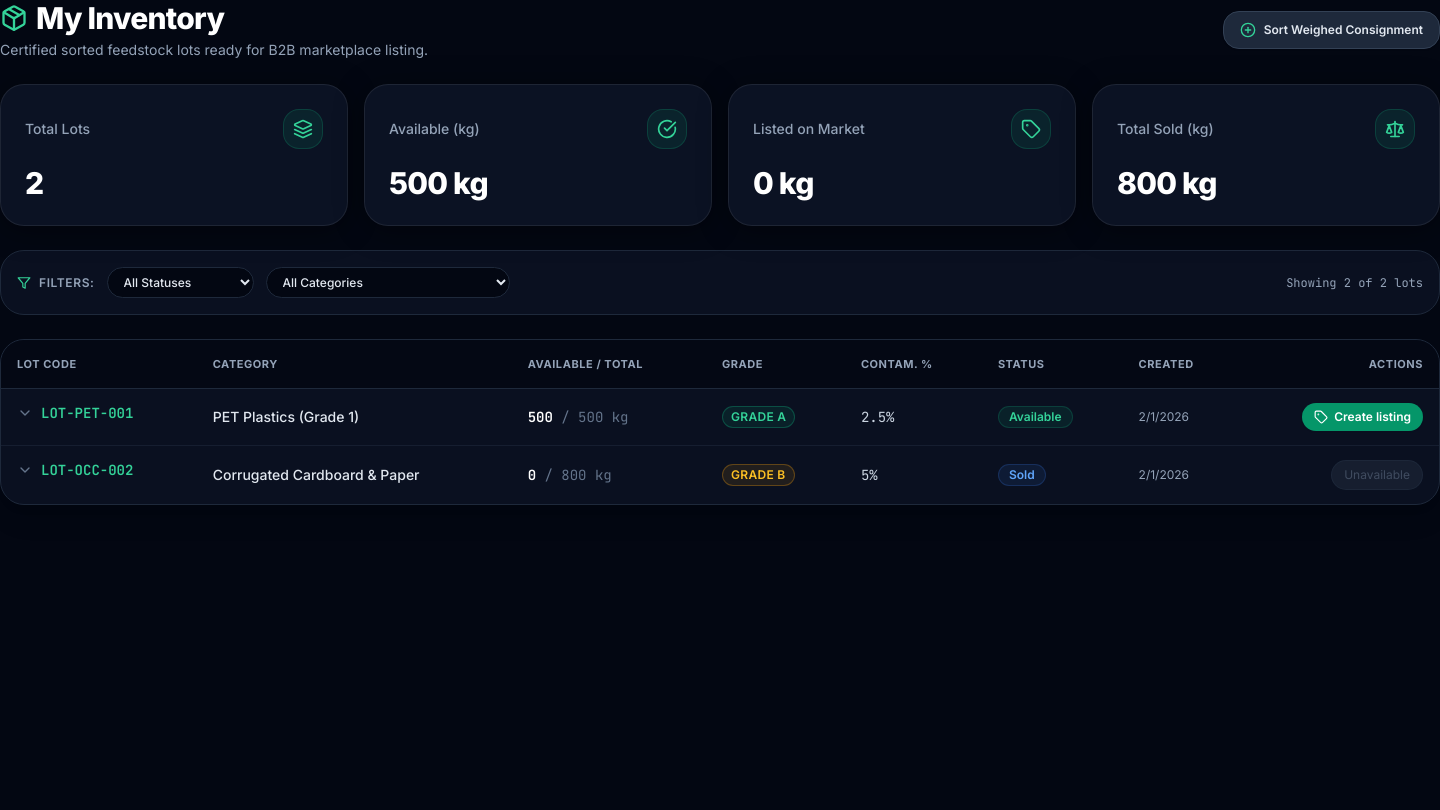
Scenario: SellerInventoryPage › opens create listing modal when clicking action on available lot
Expected: the text "Create listing" is shown, [1334,409,1411,425]
Click the button "Create listing" at [1363, 417], box [1302,403,1423,431]
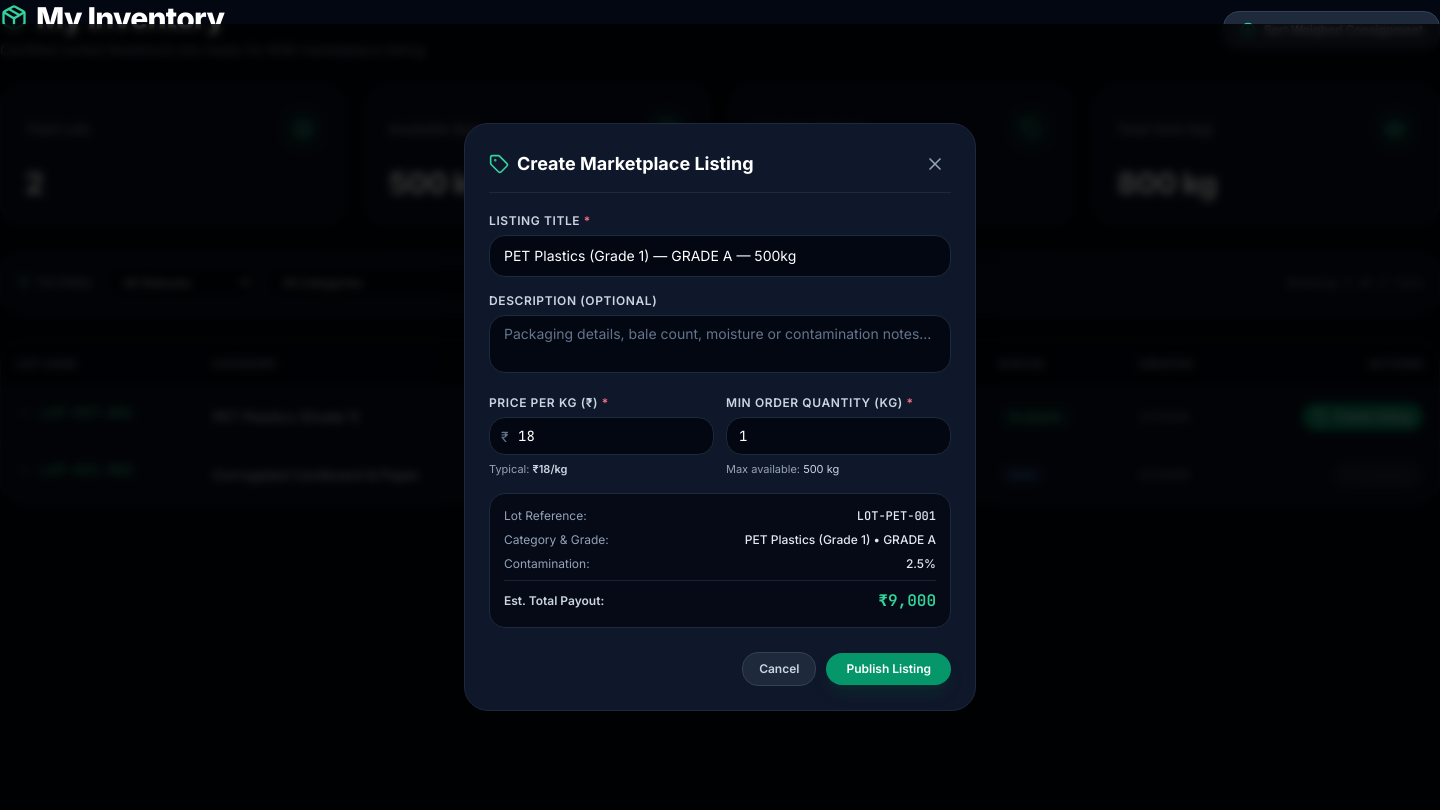
Now the heading "Create Marketplace Listing" is shown, box [517,150,754,178]
